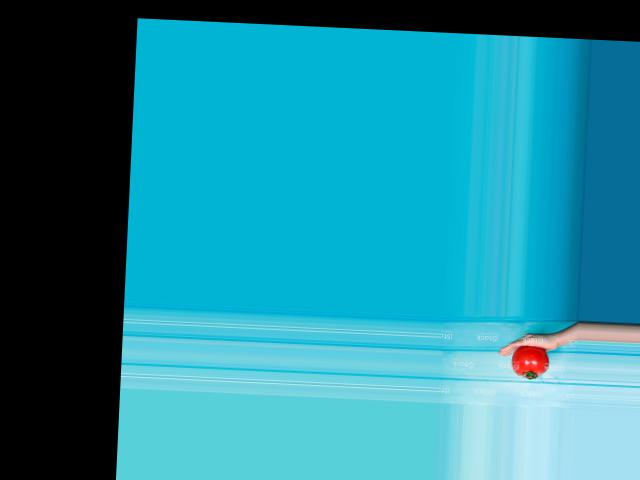tomato: (510, 344, 548, 379)
